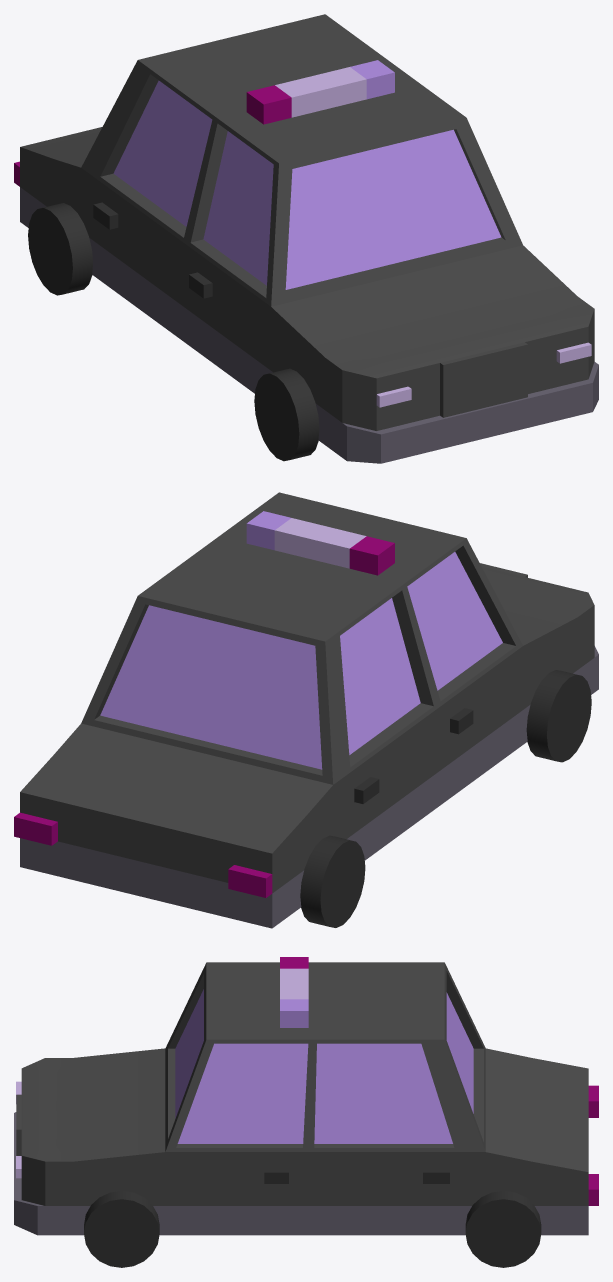
The model's file is Police_Car.fbx.
3 views of the same model, one above another, from view 1: azimuth 30°, elevation 25°; view 2: azimuth 150°, elevation 25°; view 3: azimuth 270°, elevation 25° (orthographic). The views are drawn at different scales.
Visible parts, largest first — view 1: Police_Car; view 2: Police_Car; view 3: Police_Car.
Boxes of the visible parts, x1=… form: Police_Car: x1=14, y1=14, x2=598, y2=463; Police_Car: x1=14, y1=492, x2=598, y2=928; Police_Car: x1=14, y1=957, x2=598, y2=1267.
Size of the model in its own units: 2.41 by 2.09 by 4.95.
